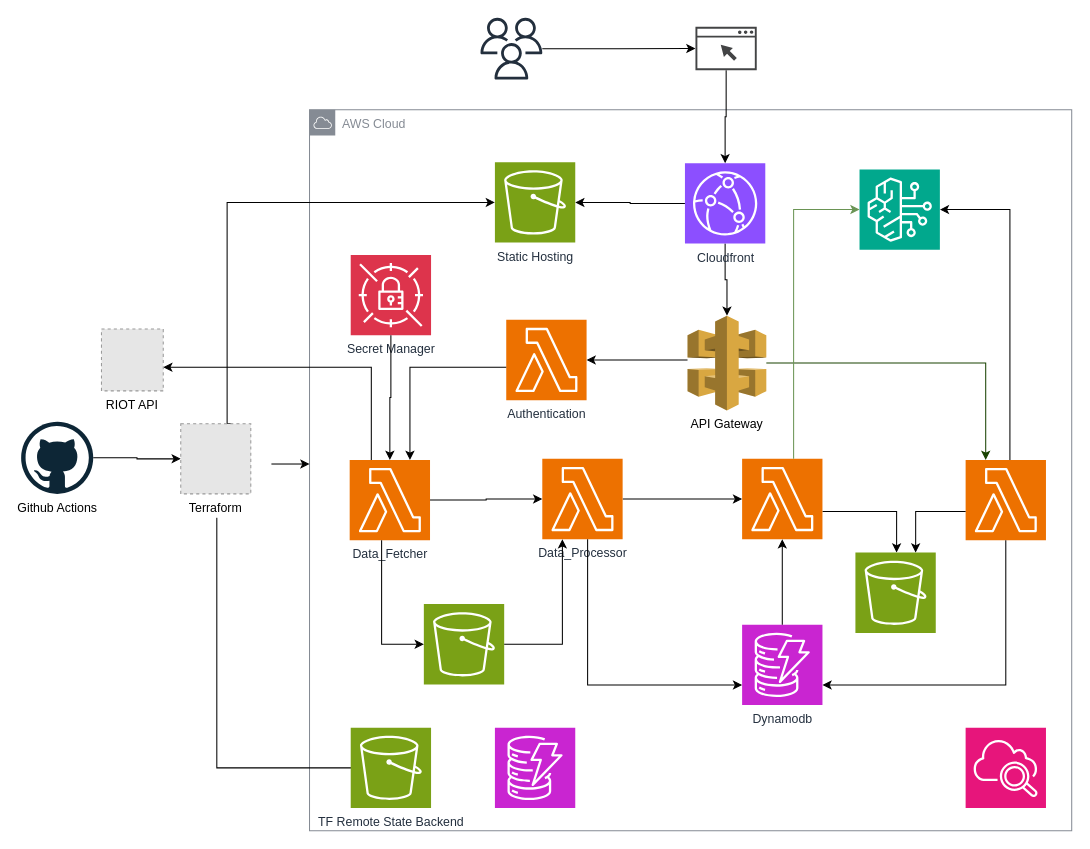
This 1090x849 diagram has some shape labels left out. Grey dashed boxes stand in for pictures. Each missing label, with the centre of its shape:
Bedrock: [899,209]
Cloudwatch: [1005,767]
Insight_Generator: [781,498]
Processed Insihgts: [895,592]
Raw Data: [463,643]
Recap Server: [1005,499]
Terraform State Lock: [534,767]
